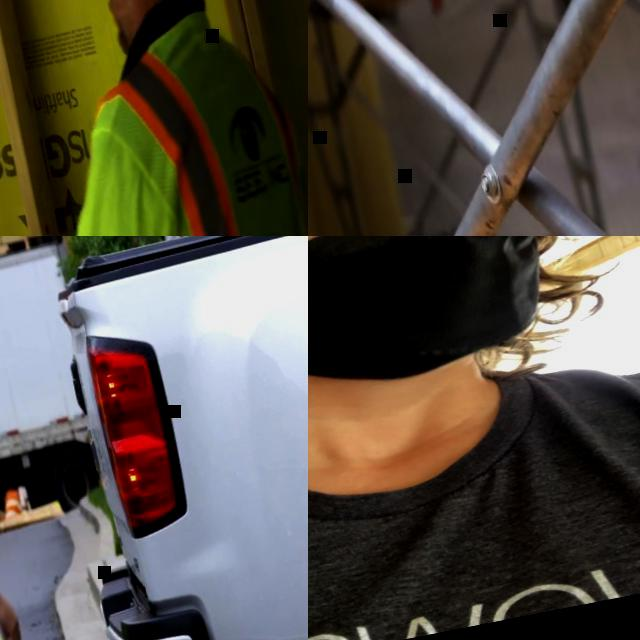mask: (308, 236, 573, 414)
no_mask: (101, 0, 162, 50)
no_vest: (308, 339, 640, 640)
person: (308, 236, 640, 640), (0, 0, 308, 236)
safety_cone: (0, 488, 22, 518)
vehicle: (0, 236, 308, 640)
vest: (14, 7, 308, 236)
